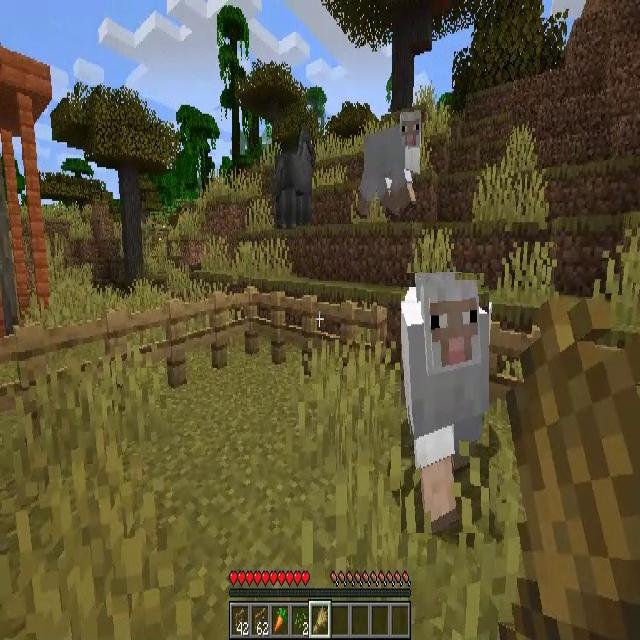sheep: (402, 274, 489, 534), (354, 112, 423, 217)
